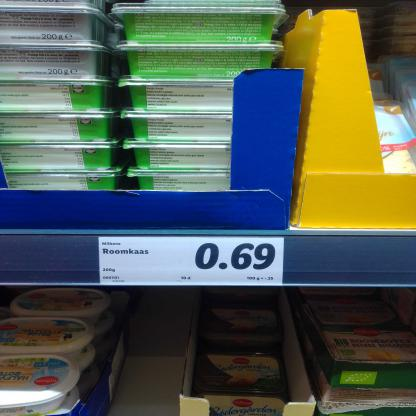prtg: (100, 238, 285, 286)
